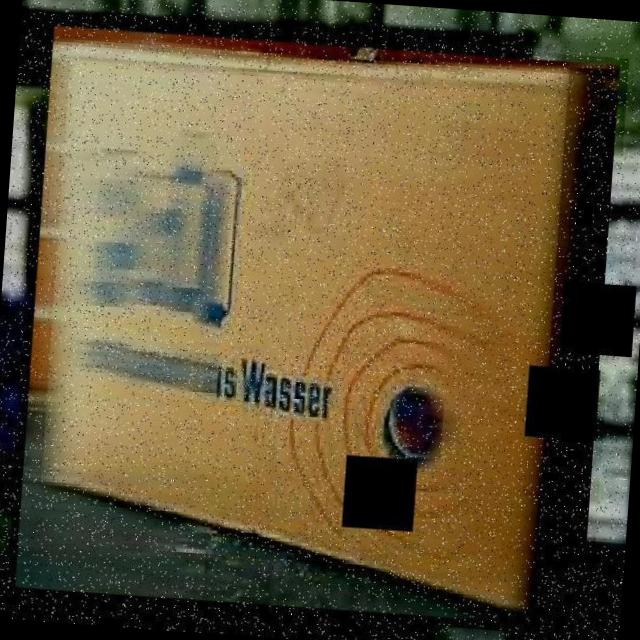box: (6, 18, 629, 636)
